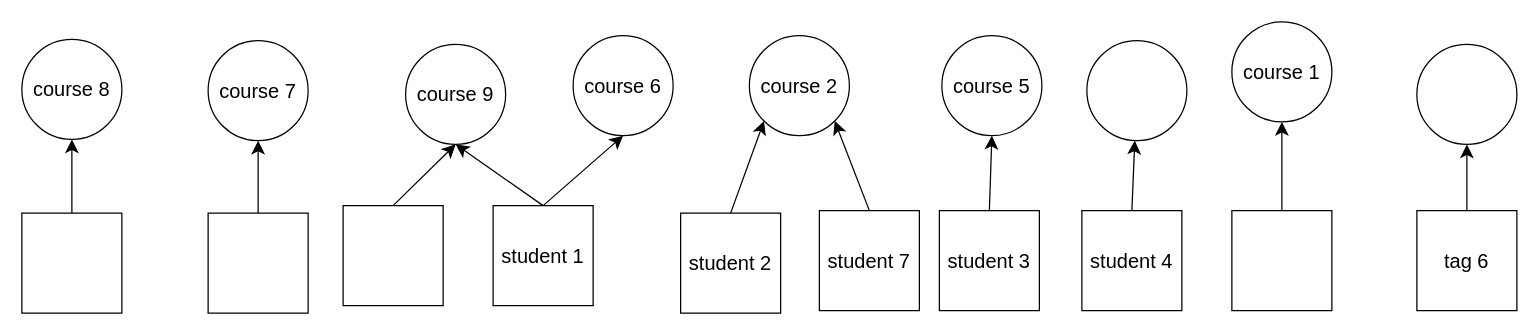
This 1539x335 diagram has some shape labels left out. Each missing label, with the centre of its shape:
course 3: point 1136,90
student 10: point 392,255
student 5: point 1281,260
student 8: point 257,262
student 9: point 71,262
user 4: point 1466,93
